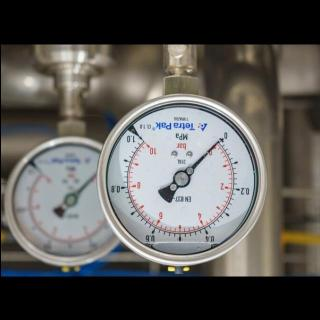gauge: (96, 92, 274, 276), (1, 134, 103, 274), (130, 128, 159, 156), (30, 162, 50, 184), (209, 130, 227, 150), (174, 170, 190, 186), (63, 192, 77, 206), (213, 139, 222, 146)
